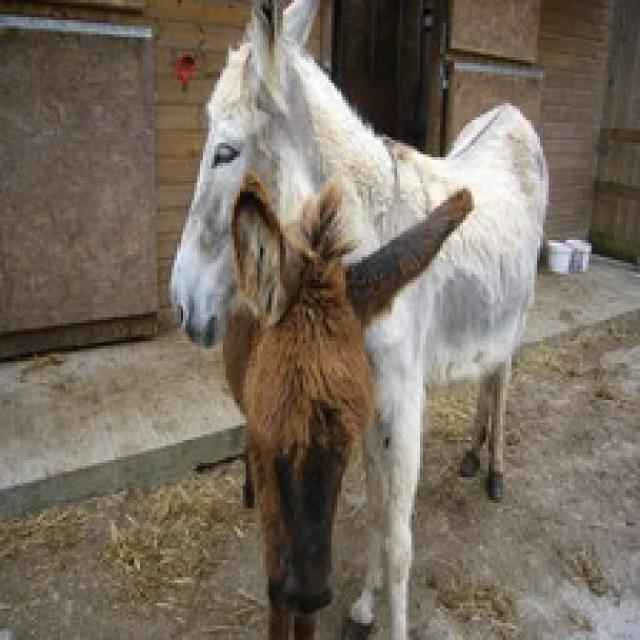Donkey: (166, 0, 548, 637), (220, 172, 474, 637)
